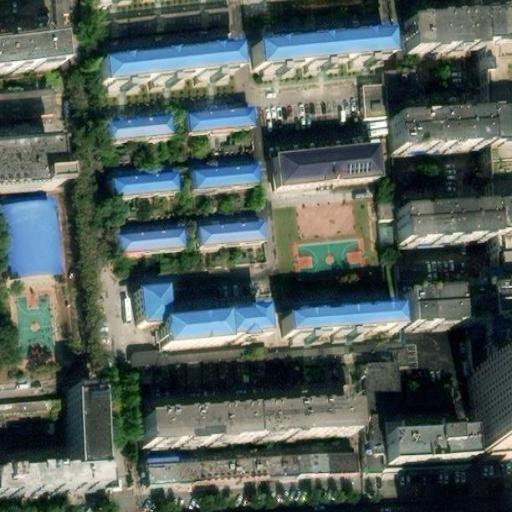building: (140, 398, 355, 465), (395, 107, 512, 152), (246, 25, 382, 63), (101, 42, 239, 79), (406, 196, 512, 241), (273, 135, 380, 179), (4, 209, 58, 285), (279, 301, 400, 334), (407, 7, 512, 43), (474, 372, 512, 462), (406, 285, 492, 324), (373, 417, 458, 456), (0, 131, 58, 184), (65, 385, 98, 466), (0, 30, 65, 67), (151, 322, 220, 355), (184, 167, 255, 194), (104, 174, 170, 203), (180, 106, 247, 134), (0, 88, 55, 122), (109, 231, 176, 258), (104, 116, 168, 144), (194, 221, 259, 247), (490, 289, 512, 359), (0, 390, 59, 416), (217, 312, 260, 343), (128, 284, 163, 318), (360, 79, 389, 120)
